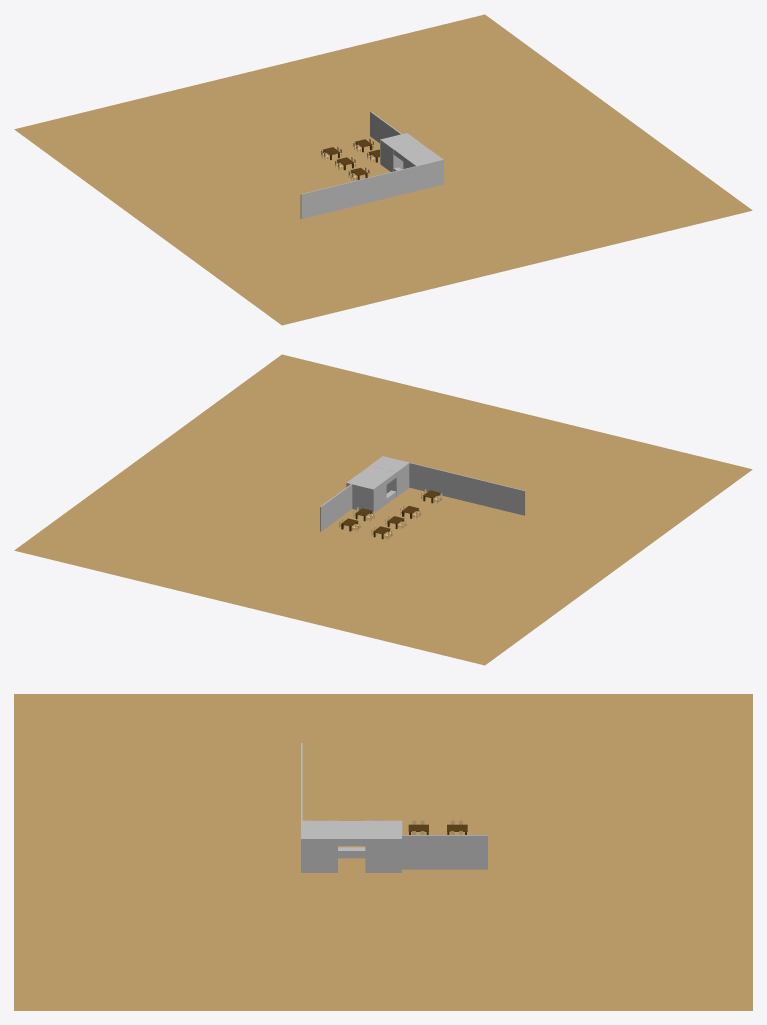
File: scenetwo.dae
3 views of the same model, one above another, from view 1: azimuth 30°, elevation 25°; view 2: azimuth 150°, elevation 25°; view 3: azimuth 270°, elevation 25° (orthographic). The views are drawn at different scales.
Visible parts, largest first — view 1: Cube.32; view 2: Cube.32; view 3: Cube.32.
Boxes of the visible parts, x1,y1,x2,y2 form: Cube.32: (14,14,752,325); Cube.32: (14,354,752,665); Cube.32: (14,694,752,1010).
Bounding box in the file's own units: 4000 × 357 × 3942.
